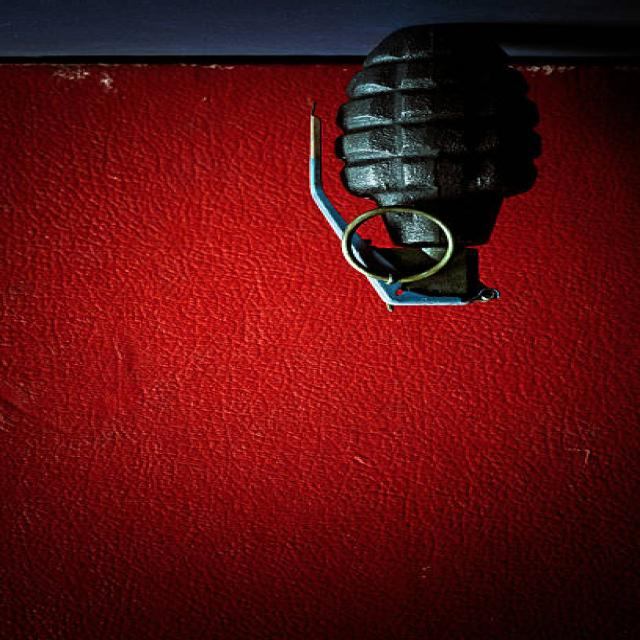grenade: (297, 12, 553, 317)
